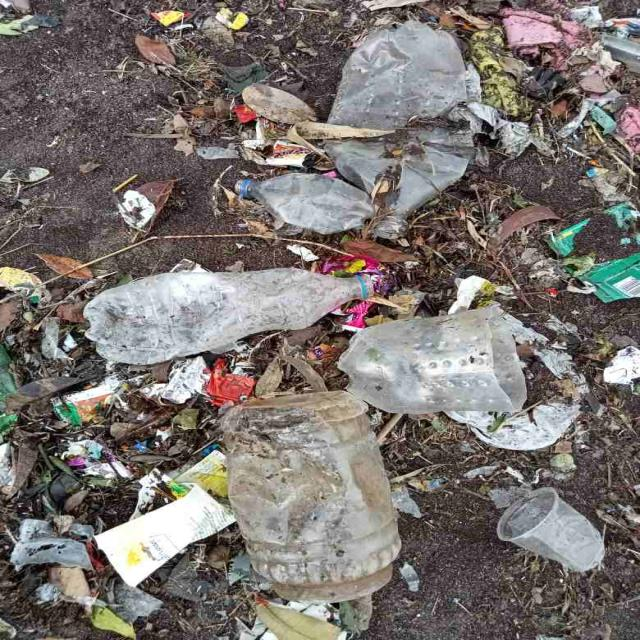bao_bi_thuc_pham: (545, 201, 640, 302)
chai_nhua: (83, 268, 375, 365), (326, 127, 473, 238), (328, 20, 473, 128)
giay: (605, 346, 640, 384)
hop_nhua: (221, 391, 401, 603), (339, 306, 527, 414), (498, 488, 606, 573), (248, 173, 373, 234)
rac_huu_co: (380, 170, 560, 299), (254, 326, 327, 397), (487, 206, 562, 254), (117, 179, 176, 232), (342, 239, 418, 263), (37, 255, 80, 274), (65, 266, 91, 279)
vo_hop_sua: (446, 348, 590, 451), (94, 486, 235, 587), (52, 377, 119, 426)
